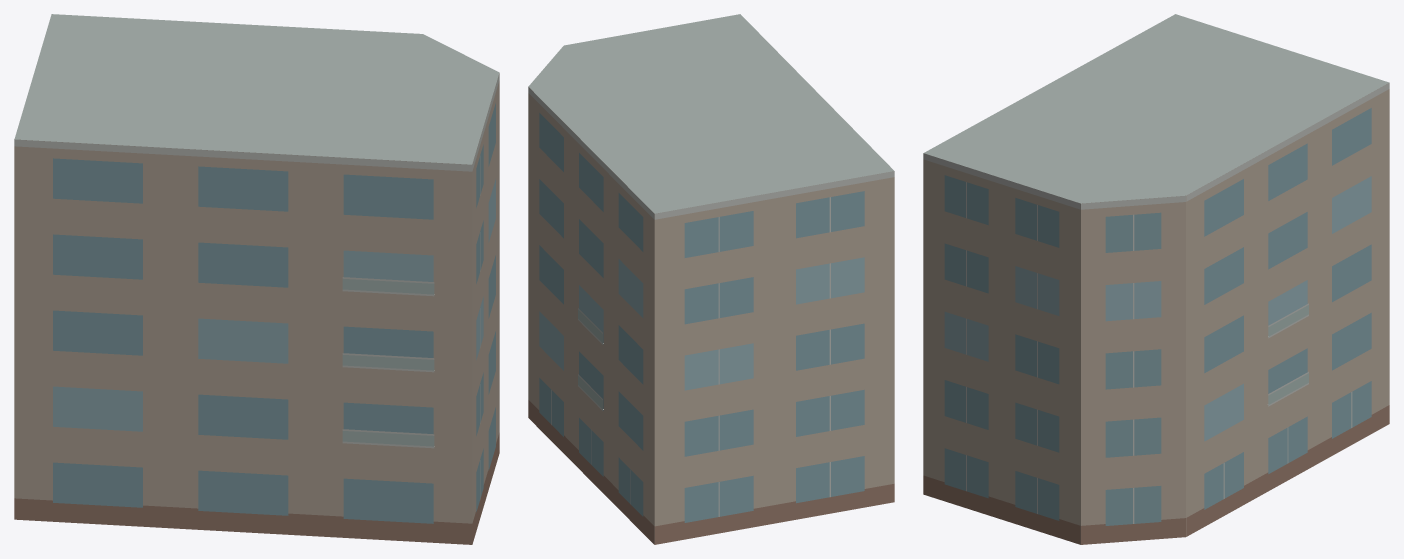
File: survey-upis-32670076.glb
3 views of the same model, side by side, from view 1: azimuth 30°, elevation 25°; view 2: azimuth 150°, elevation 25°; view 3: azimuth 270°, elevation 25° (orthographic). The views are drawn at different scales.
Visible parts, largest first — view 1: survey-upis-32670076.tmp; view 2: survey-upis-32670076.tmp; view 3: survey-upis-32670076.tmp.
Part boxes in pixels (x1,y1,x2,y2): survey-upis-32670076.tmp: (14, 14, 499, 544); survey-upis-32670076.tmp: (528, 14, 894, 544); survey-upis-32670076.tmp: (923, 14, 1389, 544).
Size of the model in its own units: 15.91 by 13.35 by 16.53.
